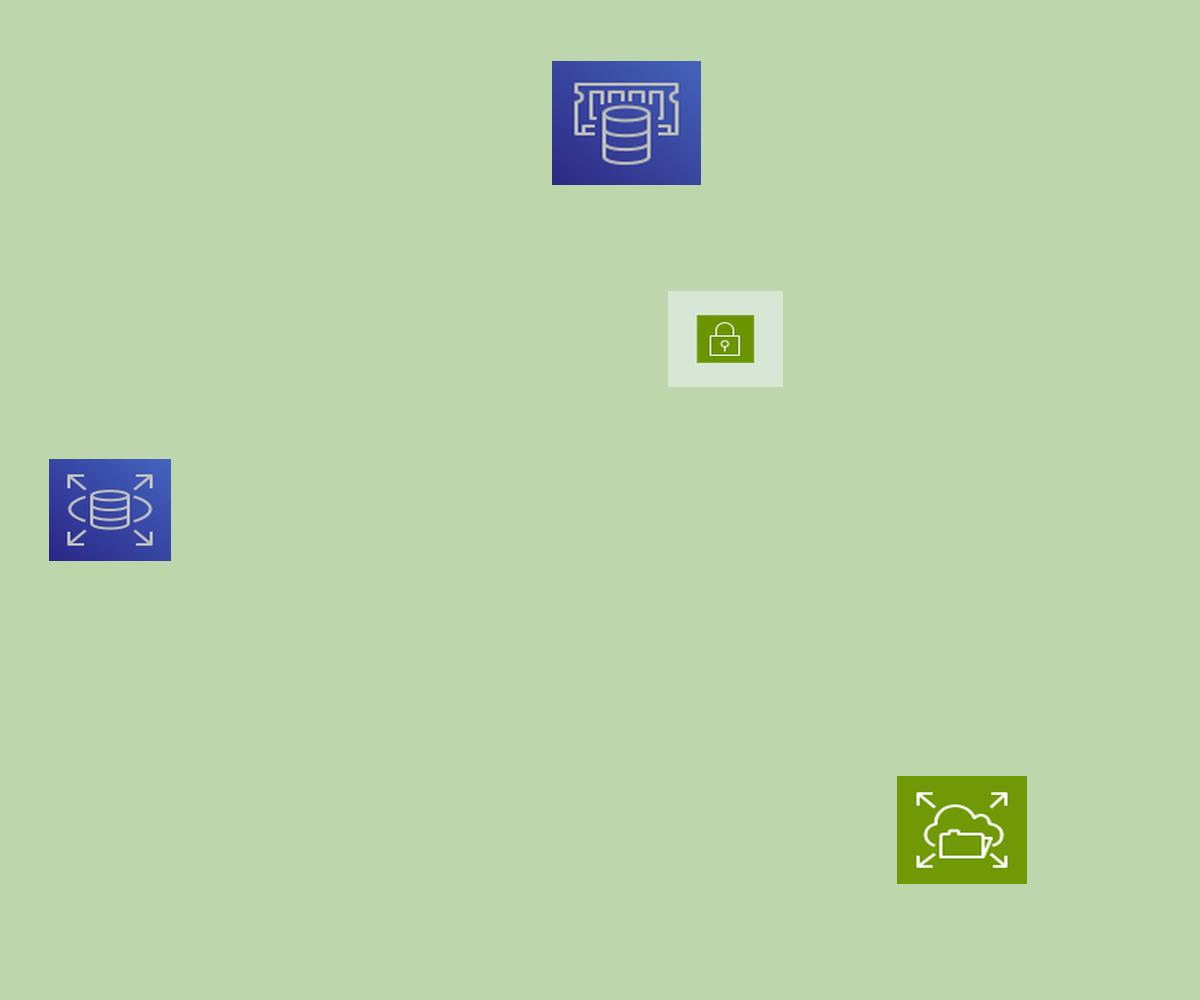AWS-EFS: (897, 776, 1027, 884)
AWS-ElastiCache: (552, 61, 701, 185)
AWS-Public-subnet: (668, 291, 783, 387)
AWS-RDS: (49, 459, 171, 561)
